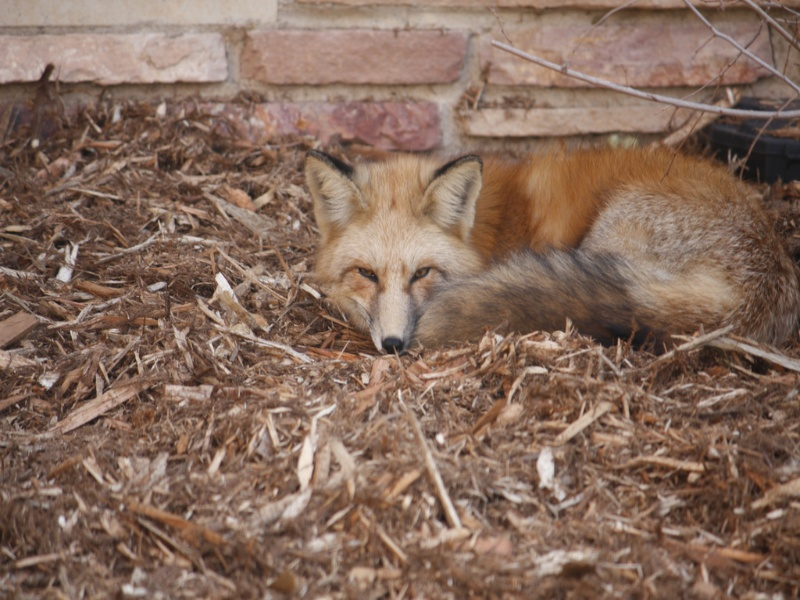fox: (291, 141, 800, 385)
